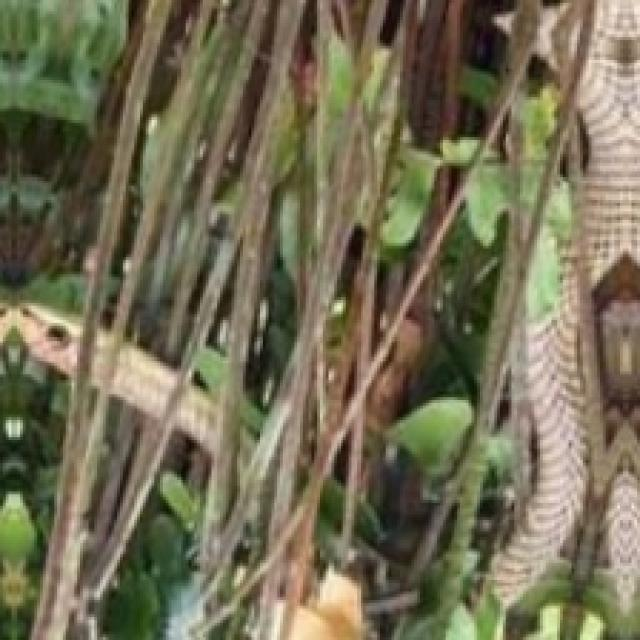paradise tree snake: (489, 0, 637, 637)
